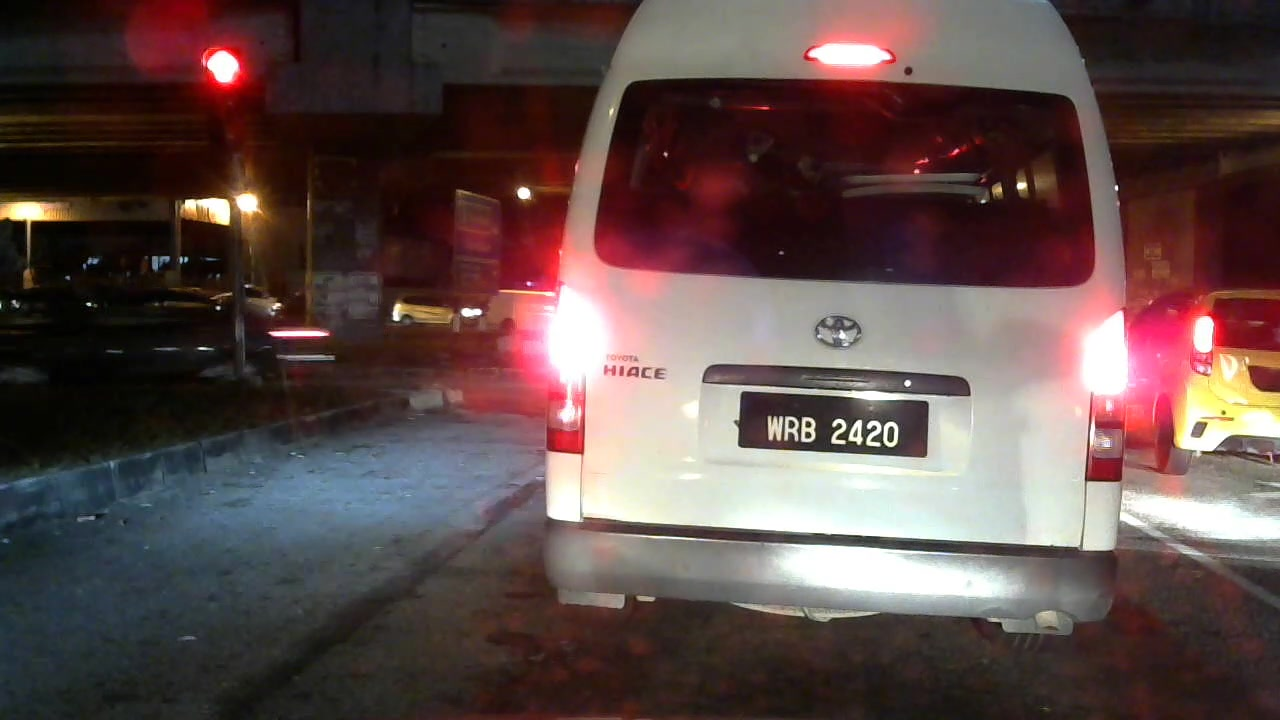Car: (1137, 270, 1280, 499), (388, 274, 477, 335)
